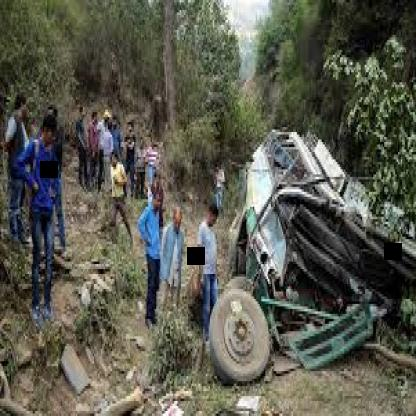accident: (197, 105, 416, 390)
